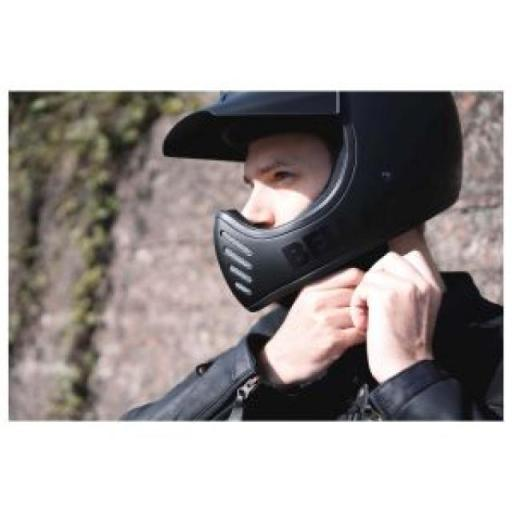Helmet: (164, 92, 462, 311)
